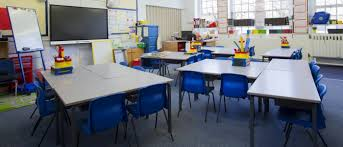desk: (253, 67, 319, 146), (100, 71, 172, 132), (49, 80, 127, 136), (176, 54, 261, 81)
